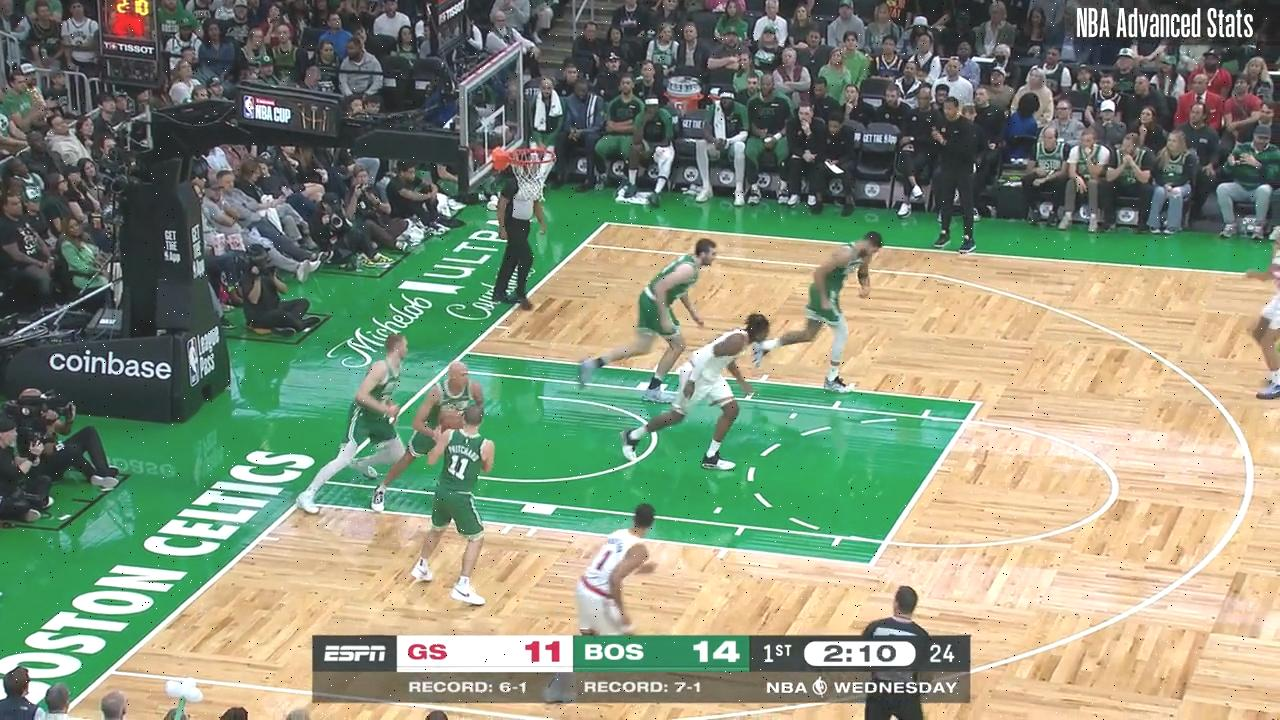basketball: (440, 409, 463, 431)
